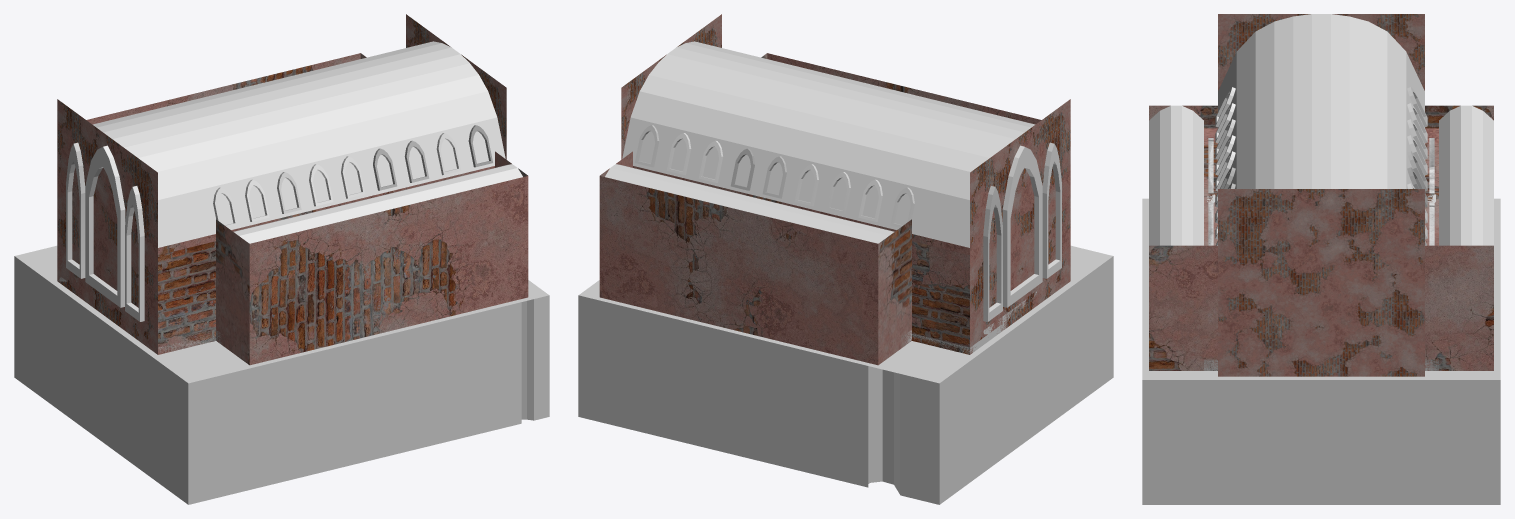
The model's file is Level_Church.fbx.
3 renders of one model, left to right at view 1: azimuth 30°, elevation 25°; view 2: azimuth 150°, elevation 25°; view 3: azimuth 270°, elevation 25°, orthographic. The views are drawn at different scales.
Visible parts, largest first — view 1: Cube.009, Floor.001, Plane.009, BackWall.001, Plane.001, Plane.013, Plane.003, Cube.021, Cube.035, Cube.037, Cube.038, Plane.008 (+2 smaller); view 2: Cube.009, Floor.001, Plane.008, BackWall.001, Plane, Plane.012, Plane.002, Cube.031, Cube.035, Cube.037, Cube.038, Plane.009 (+3 smaller); view 3: Cube.009, BackWall, Floor.001, Plane.007, Plane.005, Plane.012, Plane.013, BackWall.001, Cube.021, Cube.031, SideCeiling.004, SideCeiling.005 (+4 smaller).
Boxes of the visible parts, x1,y1,x2,y2 form: Cube.009: [14, 245, 549, 504]; Floor.001: [92, 41, 505, 247]; Plane.009: [249, 176, 528, 365]; BackWall.001: [57, 99, 157, 354]; Plane.001: [158, 241, 215, 354]; Plane.013: [233, 164, 522, 243]; Plane.003: [216, 219, 249, 364]; Cube.021: [213, 125, 492, 227]; Cube.035: [85, 145, 125, 307]; Cube.037: [125, 186, 144, 321]; Cube.038: [66, 142, 85, 278]; Plane.008: [86, 53, 360, 124]; Cube.009: [578, 245, 1113, 504]; Floor.001: [622, 41, 1035, 247]; Plane.008: [599, 176, 878, 365]; BackWall.001: [970, 99, 1070, 354]; Plane: [912, 241, 969, 354]; Plane.012: [605, 164, 894, 243]; Plane.002: [878, 219, 911, 364]; Cube.031: [635, 125, 914, 227]; Cube.035: [1002, 145, 1042, 307]; Cube.037: [1042, 142, 1061, 278]; Cube.038: [983, 186, 1002, 321]; Plane.009: [767, 53, 1041, 124]; Cube.009: [1142, 198, 1500, 504]; BackWall: [1218, 189, 1424, 376]; Floor.001: [1218, 14, 1424, 188]; Plane.007: [1149, 245, 1217, 370]; Plane.005: [1425, 245, 1493, 370]; Plane.012: [1439, 105, 1493, 245]; Plane.013: [1149, 105, 1203, 245]; BackWall.001: [1218, 14, 1424, 90]; Cube.021: [1215, 87, 1235, 245]; Cube.031: [1407, 87, 1427, 245]; SideCeiling.004: [1425, 128, 1438, 245]; SideCeiling.005: [1204, 128, 1217, 245].
Size of the model in its own units: 15540 by 12500 by 12970.
9 materials, 7 textured.
